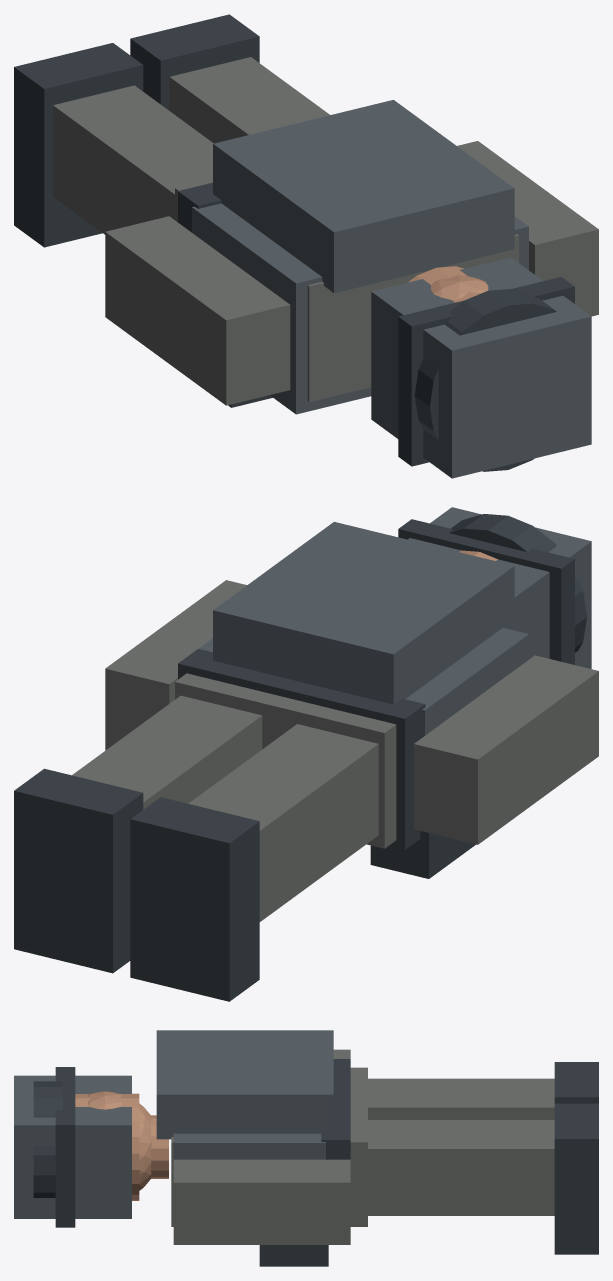
The model's file is enemy_sniper.glb.
3 views of the same model, one above another, from view 1: azimuth 30°, elevation 25°; view 2: azimuth 150°, elevation 25°; view 3: azimuth 270°, elevation 25° (orthographic). The views are drawn at different scales.
Visible parts, largest first — view 1: g14_backpack, g18_hood, g7_armL, g0_legL, g2_bootL, g5_vest, g1_legR, g4_torso, g8_armR, g3_bootR, g13_helmet rim, g12_helmet (+3 smaller); view 2: g14_backpack, g2_bootL, g7_armL, g3_bootR, g0_legL, g1_legR, g8_armR, g4_torso, g6_belt, g18_hood, g5_vest, g13_helmet rim (+2 smaller); view 3: g14_backpack, g1_legR, g8_armR, g18_hood, g0_legL, g3_bootR, g5_vest, g13_helmet rim, g4_torso, g12_helmet, g6_belt, g2_bootL (+4 smaller).
Boxes of the visible parts, left/top/right/bottom form: g14_backpack: left=213, top=100, right=514, bottom=293; g18_hood: left=371, top=257, right=591, bottom=478; g7_armL: left=105, top=216, right=290, bottom=405; g0_legL: left=53, top=85, right=213, bottom=234; g2_bootL: left=14, top=43, right=143, bottom=247; g5_vest: left=192, top=203, right=528, bottom=414; g1_legR: left=169, top=57, right=329, bottom=143; g4_torso: left=175, top=179, right=518, bottom=402; g8_armR: left=457, top=141, right=598, bottom=316; g3_bootR: left=130, top=14, right=259, bottom=110; g13_helmet rim: left=398, top=277, right=574, bottom=466; g12_helmet: left=414, top=288, right=556, bottom=471; g14_backpack: left=213, top=521, right=514, bottom=704; g2_bootL: left=130, top=797, right=259, bottom=1001; g7_armL: left=414, top=655, right=598, bottom=844; g3_bootR: left=14, top=768, right=143, bottom=973; g0_legL: left=188, top=724, right=378, bottom=921; g1_legR: left=72, top=695, right=262, bottom=809; g8_armR: left=105, top=580, right=246, bottom=750; g4_torso: left=175, top=673, right=396, bottom=848; g6_belt: left=178, top=649, right=425, bottom=849; g18_hood: left=408, top=507, right=591, bottom=668; g5_vest: left=198, top=628, right=528, bottom=737; g13_helmet rim: left=398, top=519, right=574, bottom=664; g14_backpack: left=156, top=1030, right=333, bottom=1139; g1_legR: left=368, top=1120, right=554, bottom=1215; g8_armR: left=173, top=1159, right=350, bottom=1244; g18_hood: left=14, top=1075, right=131, bottom=1218; g0_legL: left=368, top=1078, right=554, bottom=1119; g3_bootR: left=554, top=1103, right=598, bottom=1254; g5_vest: left=173, top=1133, right=325, bottom=1159; g13_helmet rim: left=55, top=1067, right=75, bottom=1227; g4_torso: left=171, top=1067, right=367, bottom=1226; g12_helmet: left=33, top=1081, right=62, bottom=1197; g6_belt: left=321, top=1059, right=350, bottom=1159; g2_bootL: left=554, top=1062, right=598, bottom=1103.
Size of the model in its own units: 1.28 by 0.72 by 2.38.
